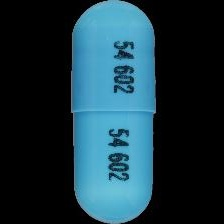45865-441: (0, 0, 224, 224)
